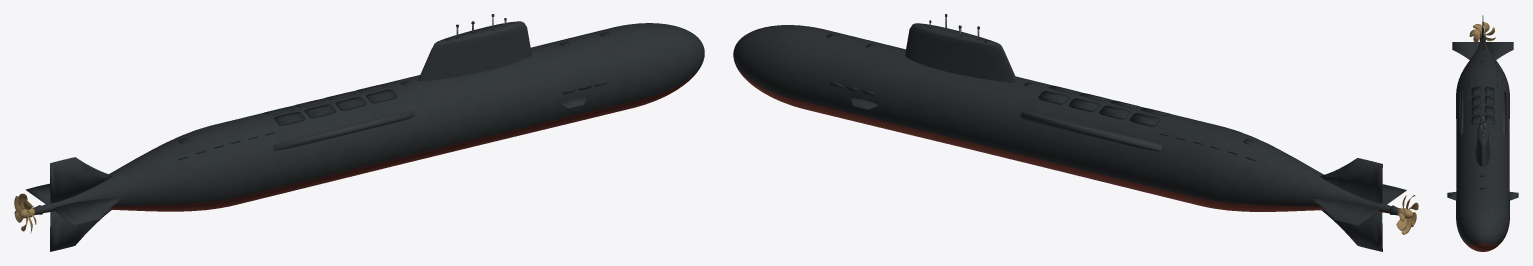
File: RU_SSN_Yasen_LOD3.fbx
The picture shows the model from 3 angles, left to right: view 1: azimuth 30°, elevation 25°; view 2: azimuth 150°, elevation 25°; view 3: azimuth 270°, elevation 25°; orthographic projection. The views are drawn at different scales.
Parts seen in each view (by area): view 1: RU_SSN_Yasen_LOD3; view 2: RU_SSN_Yasen_LOD3; view 3: RU_SSN_Yasen_LOD3.
Boxes of the visible parts, <box> form: RU_SSN_Yasen_LOD3: <box>14,14,704,251</box>; RU_SSN_Yasen_LOD3: <box>733,14,1418,251</box>; RU_SSN_Yasen_LOD3: <box>1447,15,1518,251</box>.
Bounding box in the file's own units: 120 × 17.2 × 21.96.
Materials: 7 (1 with a texture image).
